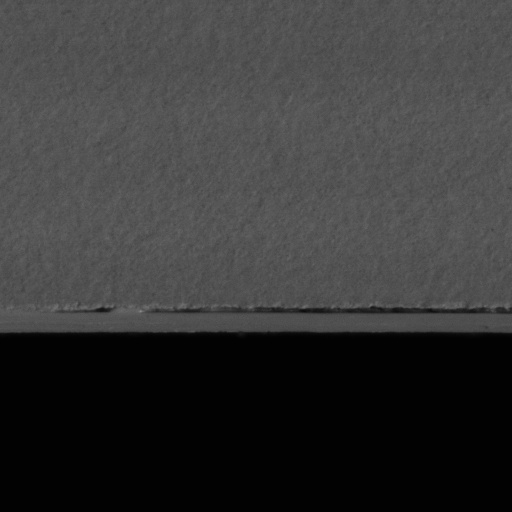jiaofeng: (150, 301, 511, 322), (56, 304, 118, 322)
